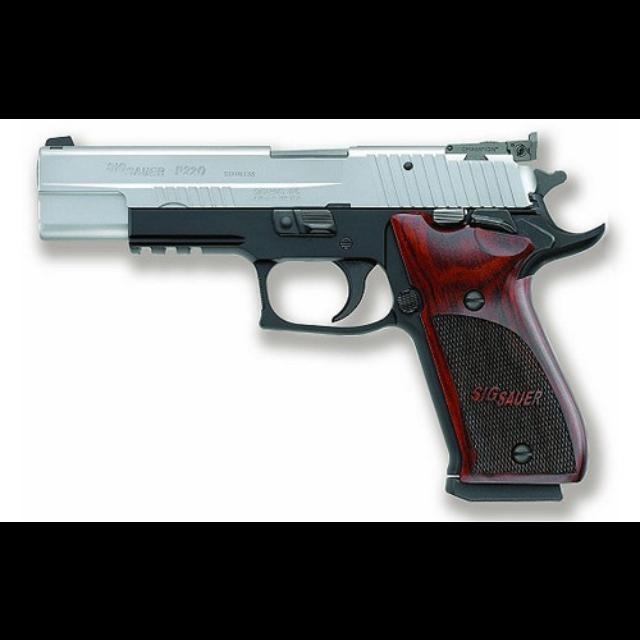handgun: (32, 126, 610, 504)
